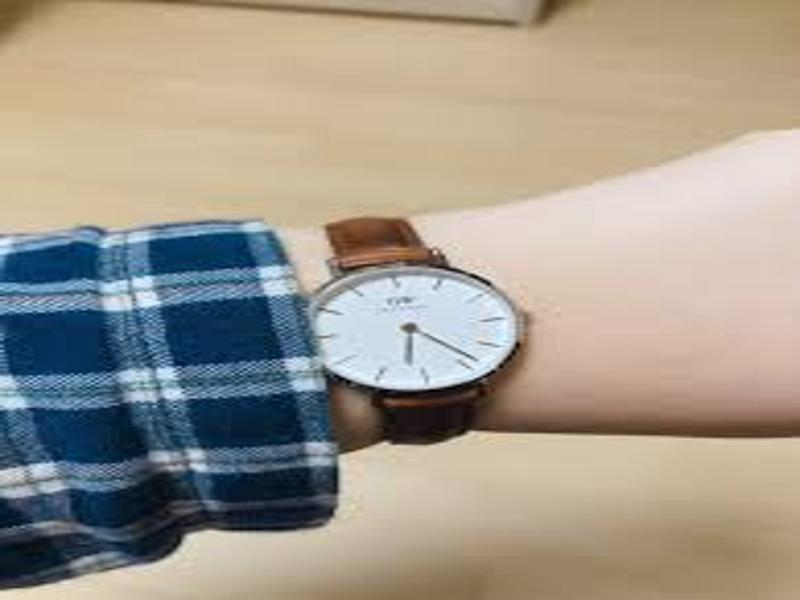watch: (303, 215, 529, 447)
